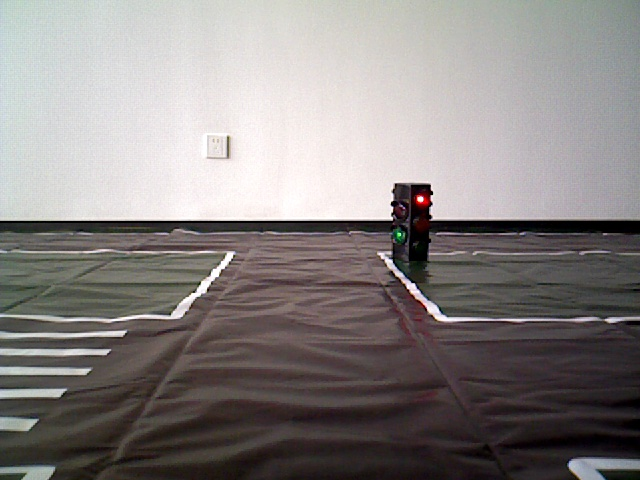red: (392, 182, 430, 271)
